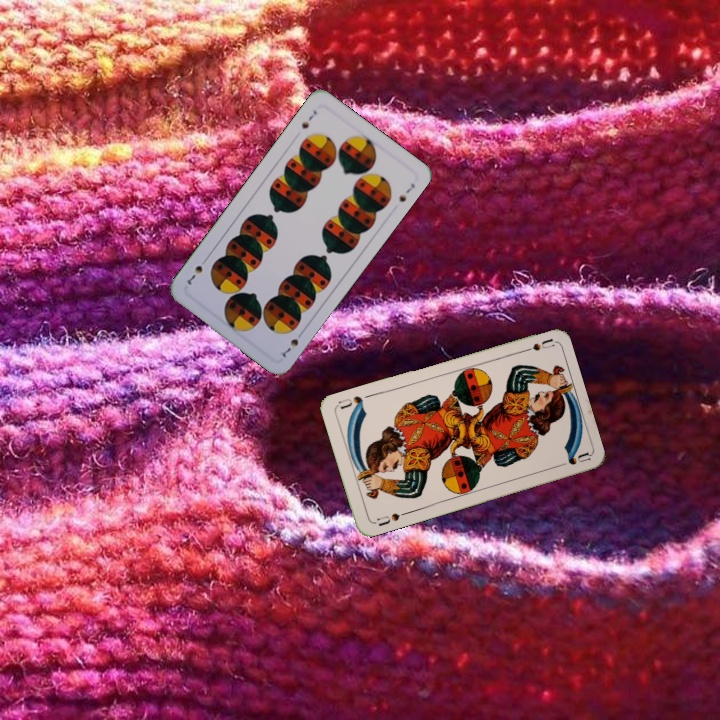S7: (277, 327, 306, 360), (297, 106, 320, 131)
SU: (515, 334, 556, 356), (373, 508, 410, 529)
